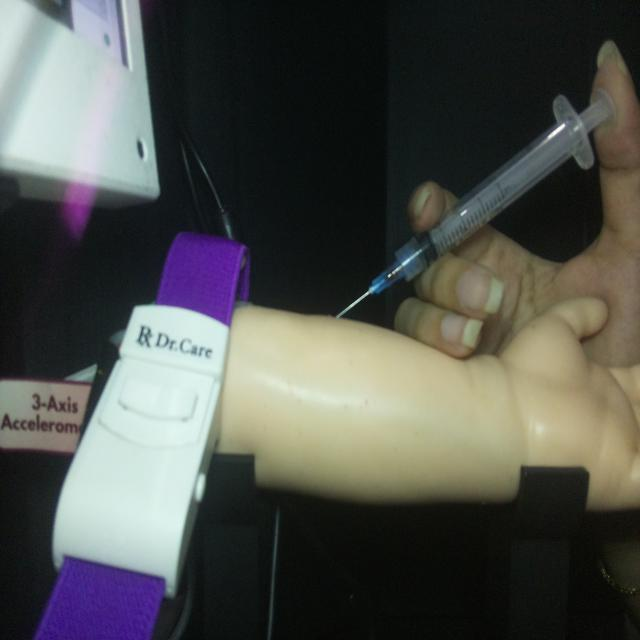30 degrees: (333, 84, 617, 321)
